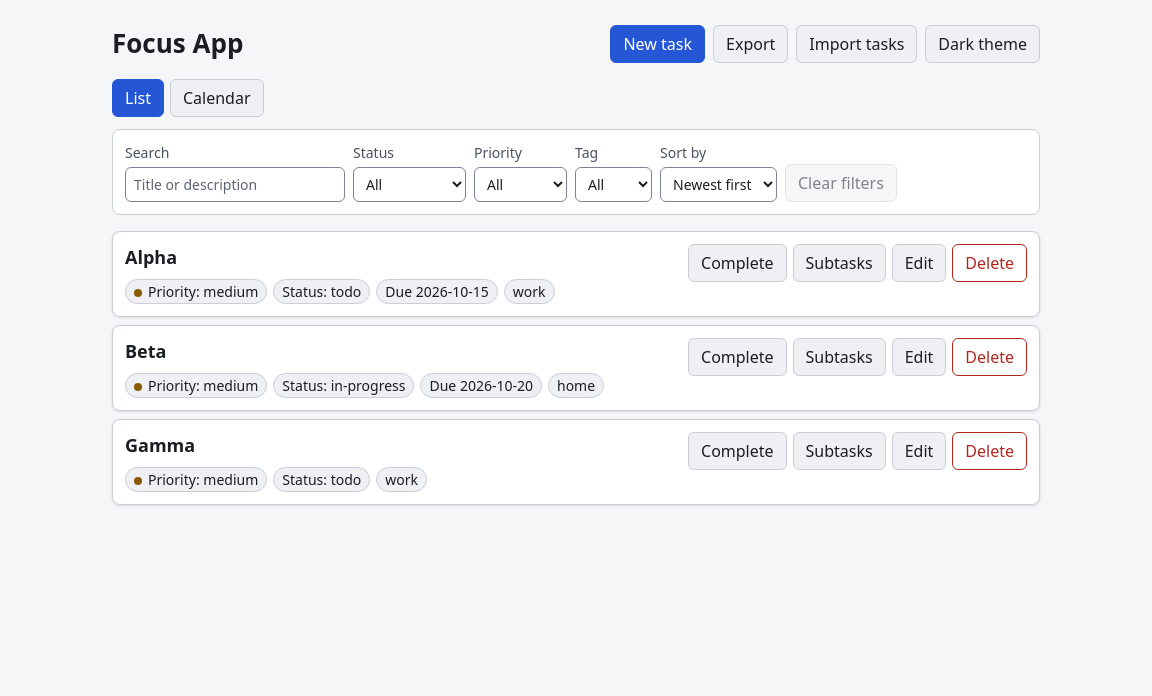
filters apply to the calendar as they apply to the list › shows only the matching tasks in both views
Click the button "Calendar" at point(217, 98), box x1=170 y1=79 x2=264 y2=117
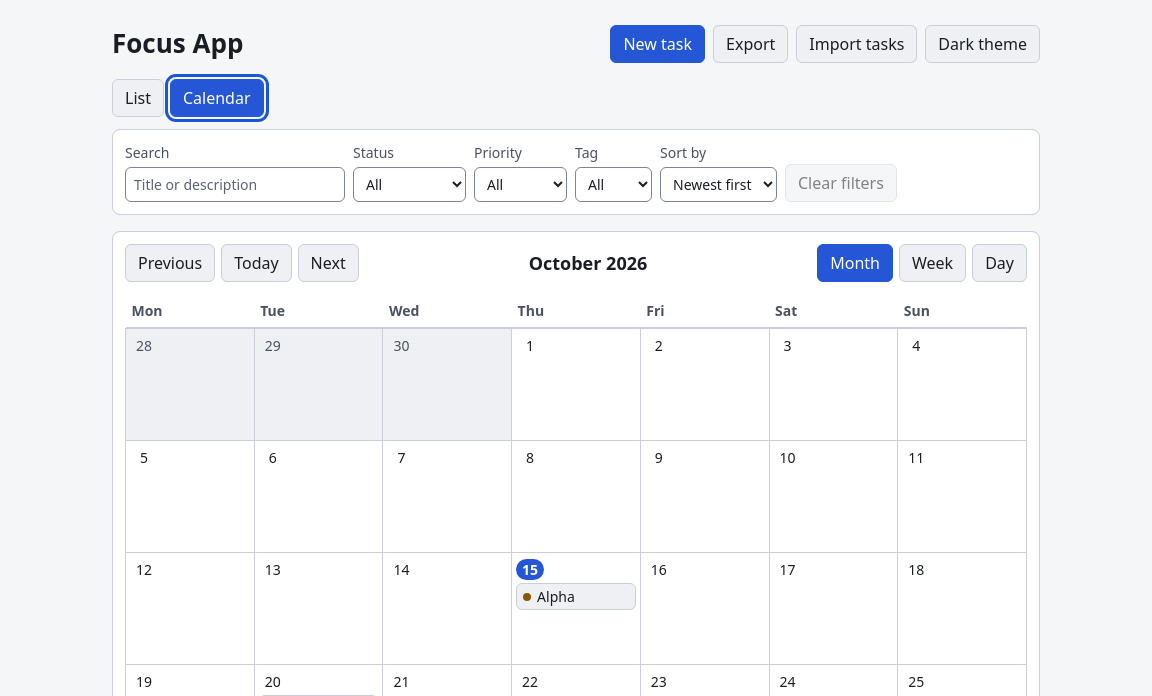
Select "home" in the dropdown labelled "Tag" at point(614, 184), box x1=575 y1=167 x2=652 y2=202
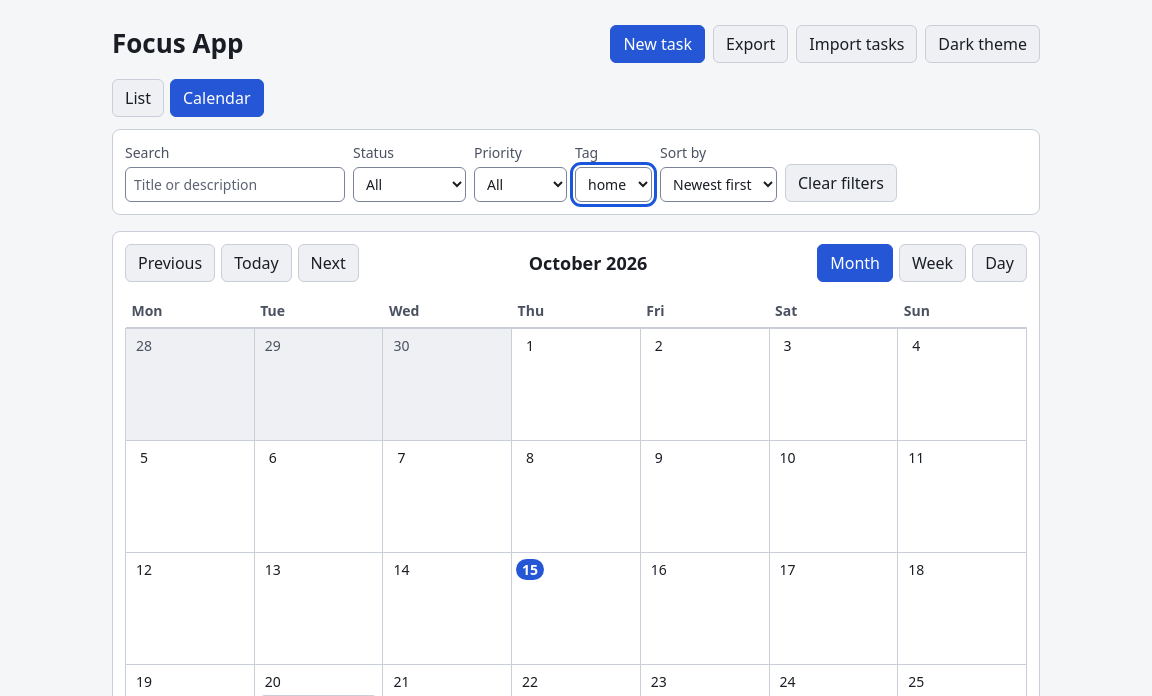
Now the button "Alpha" is gone
Click the button "List" at point(138, 98), box x1=112 y1=79 x2=164 y2=117
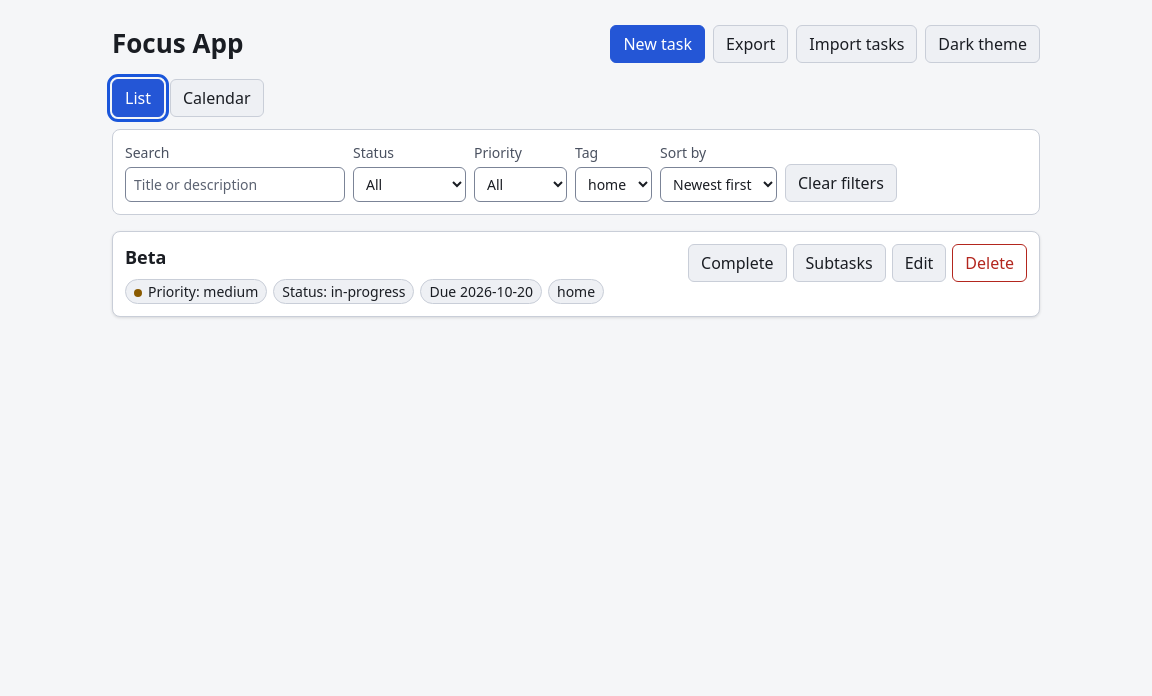
Now the headings read "Beta", in this order, box x1=125 y1=245 x2=166 y2=269
